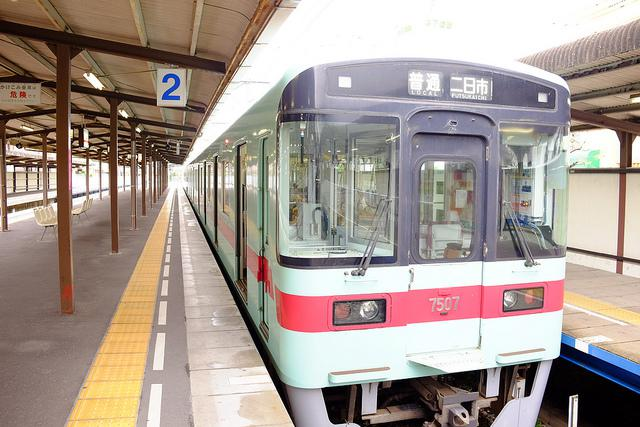Train: (182, 40, 576, 427)
